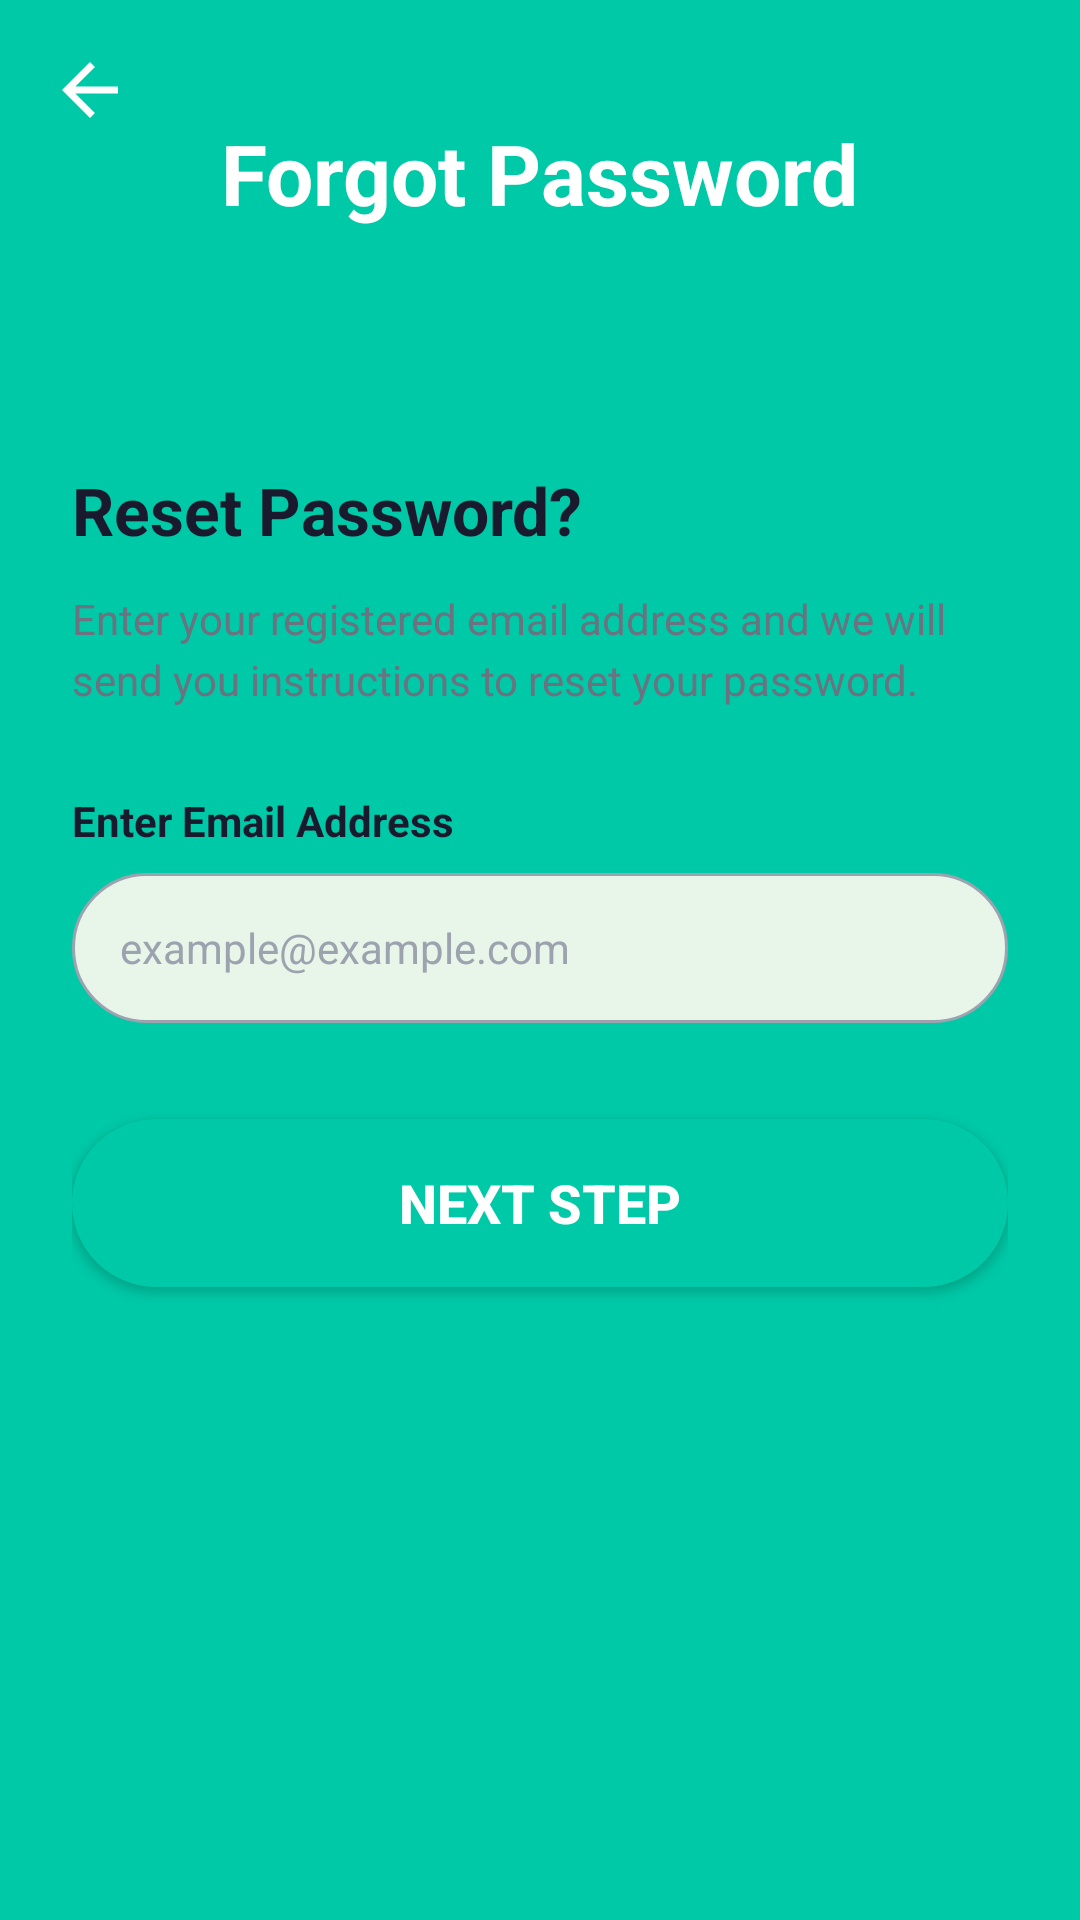

Where to tap for icons on this 1080×1920 app screen, as [x,y]:
Back: [90,90]
